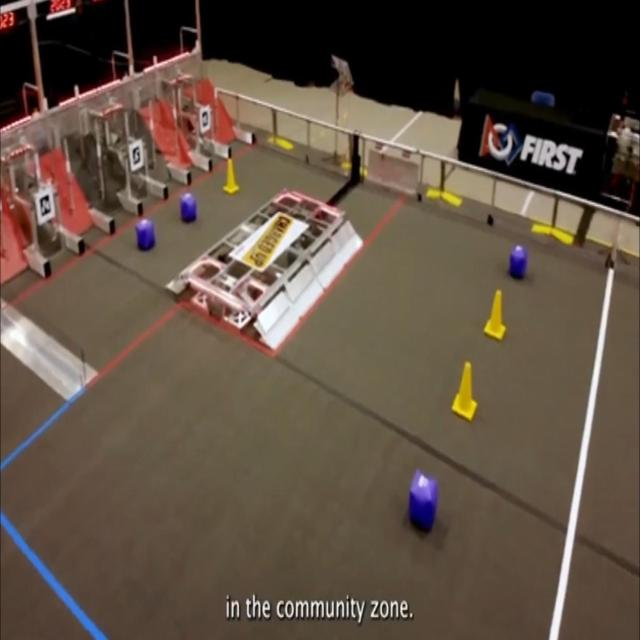frc_cone: (452, 361, 477, 421), (483, 289, 507, 341), (223, 158, 239, 194)
frc_cube: (408, 468, 439, 535), (508, 244, 528, 280), (135, 217, 156, 251), (180, 193, 197, 224)
